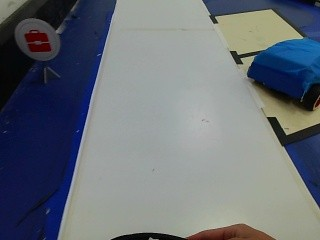company: (13, 19, 58, 65)
